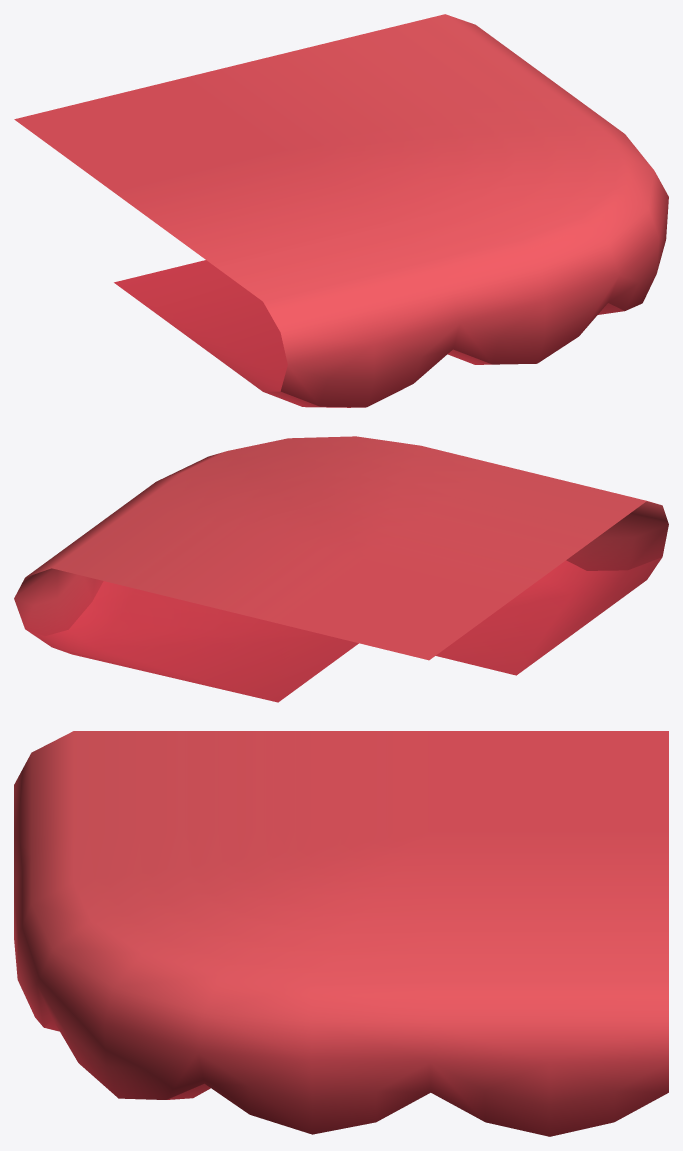
The model's file is Hill_Top_I_OuterCorner_Color7.fbx.
3 views of the same model, one above another, from view 1: azimuth 30°, elevation 25°; view 2: azimuth 150°, elevation 25°; view 3: azimuth 270°, elevation 25° (orthographic). The views are drawn at different scales.
Visible parts, largest first — view 1: Hill_Top_I_OuterCorner_Color7; view 2: Hill_Top_I_OuterCorner_Color7; view 3: Hill_Top_I_OuterCorner_Color7.
Boxes of the visible parts, x1,y1,x2,y2 form: Hill_Top_I_OuterCorner_Color7: (14,14,668,407); Hill_Top_I_OuterCorner_Color7: (14,436,668,702); Hill_Top_I_OuterCorner_Color7: (14,731,668,1136).
Size of the model in its own units: 2.75 by 0.7052 by 2.75.
